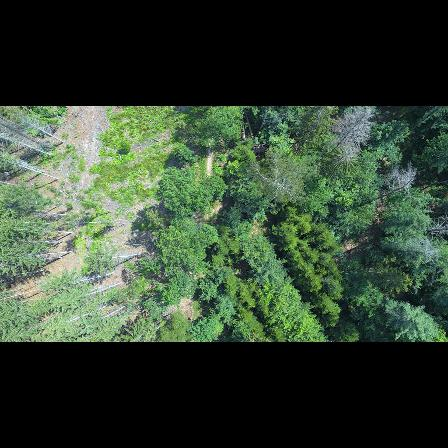Dead: (332, 107, 377, 171), (252, 155, 299, 202), (396, 236, 443, 262), (383, 164, 417, 196)
